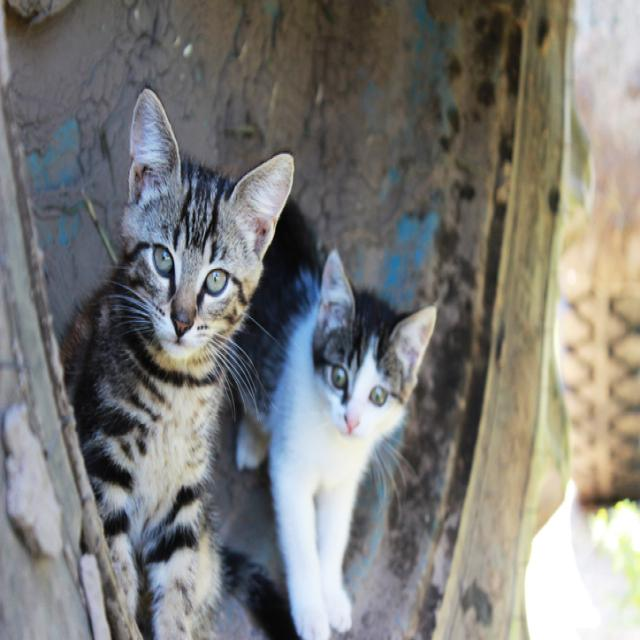cat: (62, 88, 296, 639), (236, 200, 436, 639)
